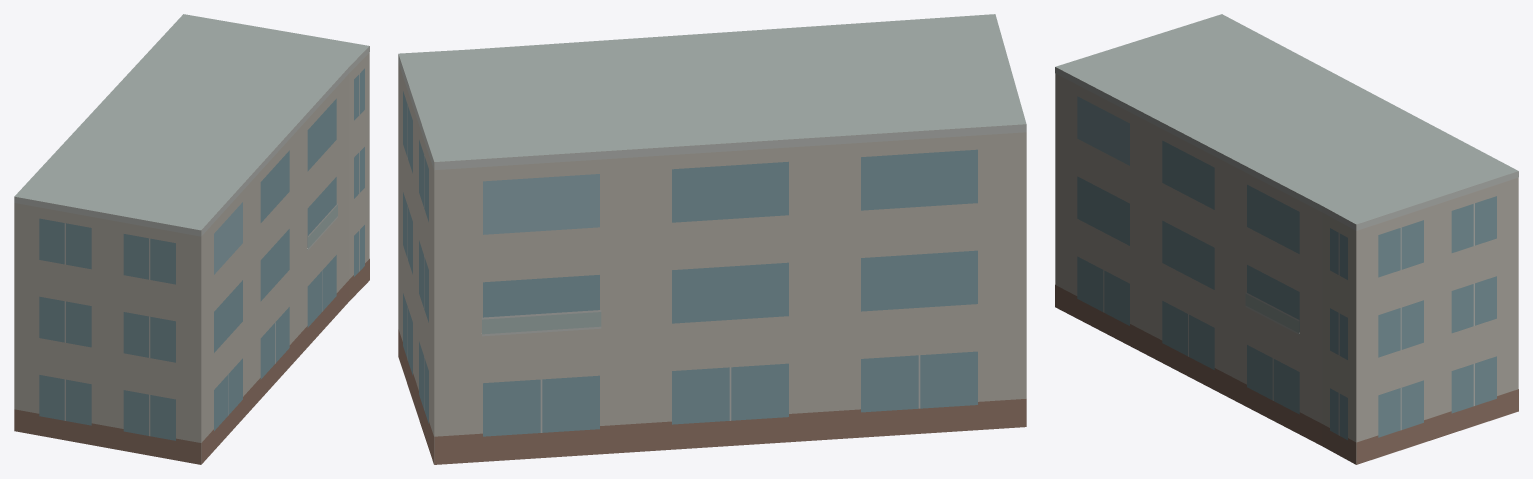
Rendered from survey-upis-32687679.glb.
The picture shows the model from 3 angles, left to right: view 1: azimuth 30°, elevation 25°; view 2: azimuth 150°, elevation 25°; view 3: azimuth 270°, elevation 25°; orthographic projection. The views are drawn at different scales.
Parts seen in each view (by area): view 1: survey-upis-32687679.tmp; view 2: survey-upis-32687679.tmp; view 3: survey-upis-32687679.tmp.
Part boxes in pixels (box(x1,y1,x2,y2)): survey-upis-32687679.tmp: box(14, 14, 369, 464); survey-upis-32687679.tmp: box(398, 14, 1026, 464); survey-upis-32687679.tmp: box(1055, 14, 1518, 464).
Bounding box in the file's own units: 17.2 × 9.15 × 16.01.
